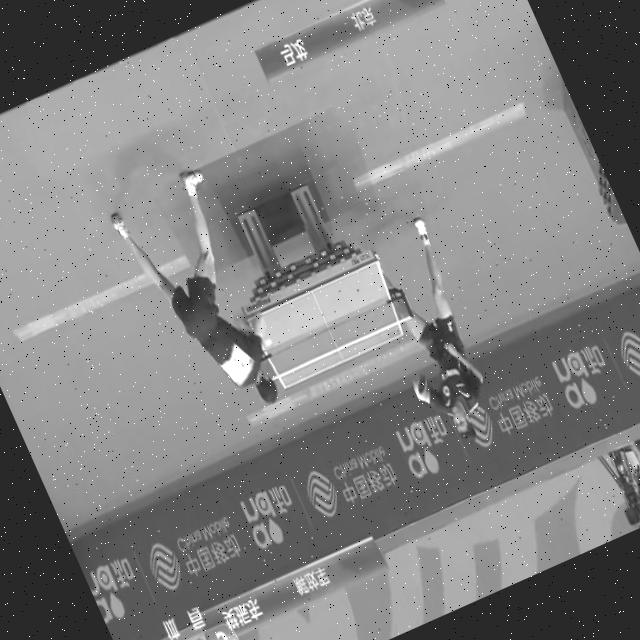ping-pong-ball: (263, 338, 274, 350)
